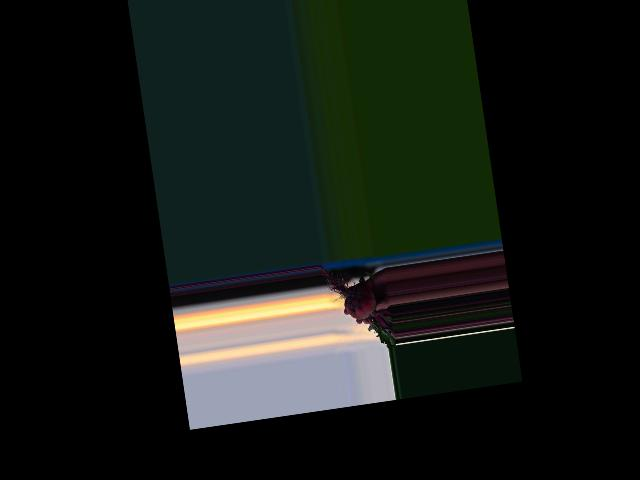beet: (320, 256, 396, 356)
